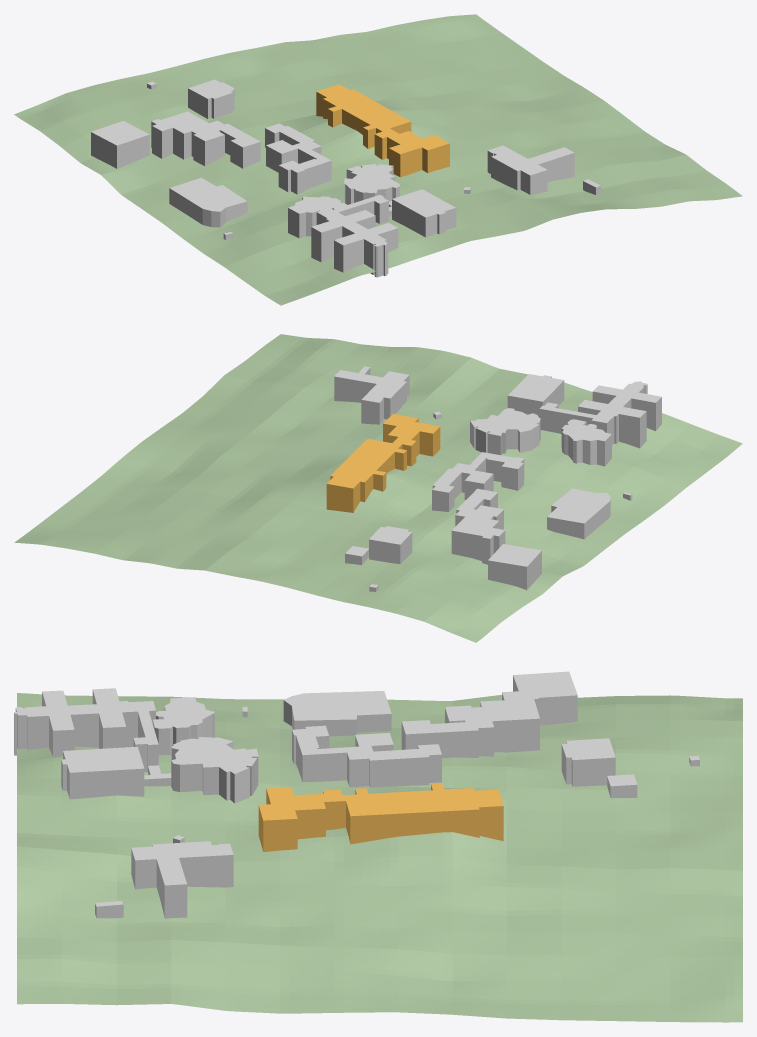
The model's file is kutuphane_ref.glb.
3 renders of one model, top to bottom at view 1: azimuth 30°, elevation 25°; view 2: azimuth 150°, elevation 25°; view 3: azimuth 270°, elevation 25°, orthographic. The views are drawn at different scales.
Visible parts, largest first — view 1: ARAZI, KOMSU_BINALAR, HEDEF_0_way_208600863; view 2: ARAZI, KOMSU_BINALAR, HEDEF_0_way_208600863; view 3: ARAZI, KOMSU_BINALAR, HEDEF_0_way_208600863.
Boxes of the visible parts, x1,y1,x2,y2 form: ARAZI: (14,14,742,305); KOMSU_BINALAR: (91,79,600,277); HEDEF_0_way_208600863: (316,84,449,177); ARAZI: (14,334,742,642); KOMSU_BINALAR: (334,366,661,591); HEDEF_0_way_208600863: (326,413,440,512); ARAZI: (17,693,742,1022); KOMSU_BINALAR: (14,671,699,918); HEDEF_0_way_208600863: (258,783,503,851).
Bounding box in the file's own units: 400 × 43.86 × 402.
